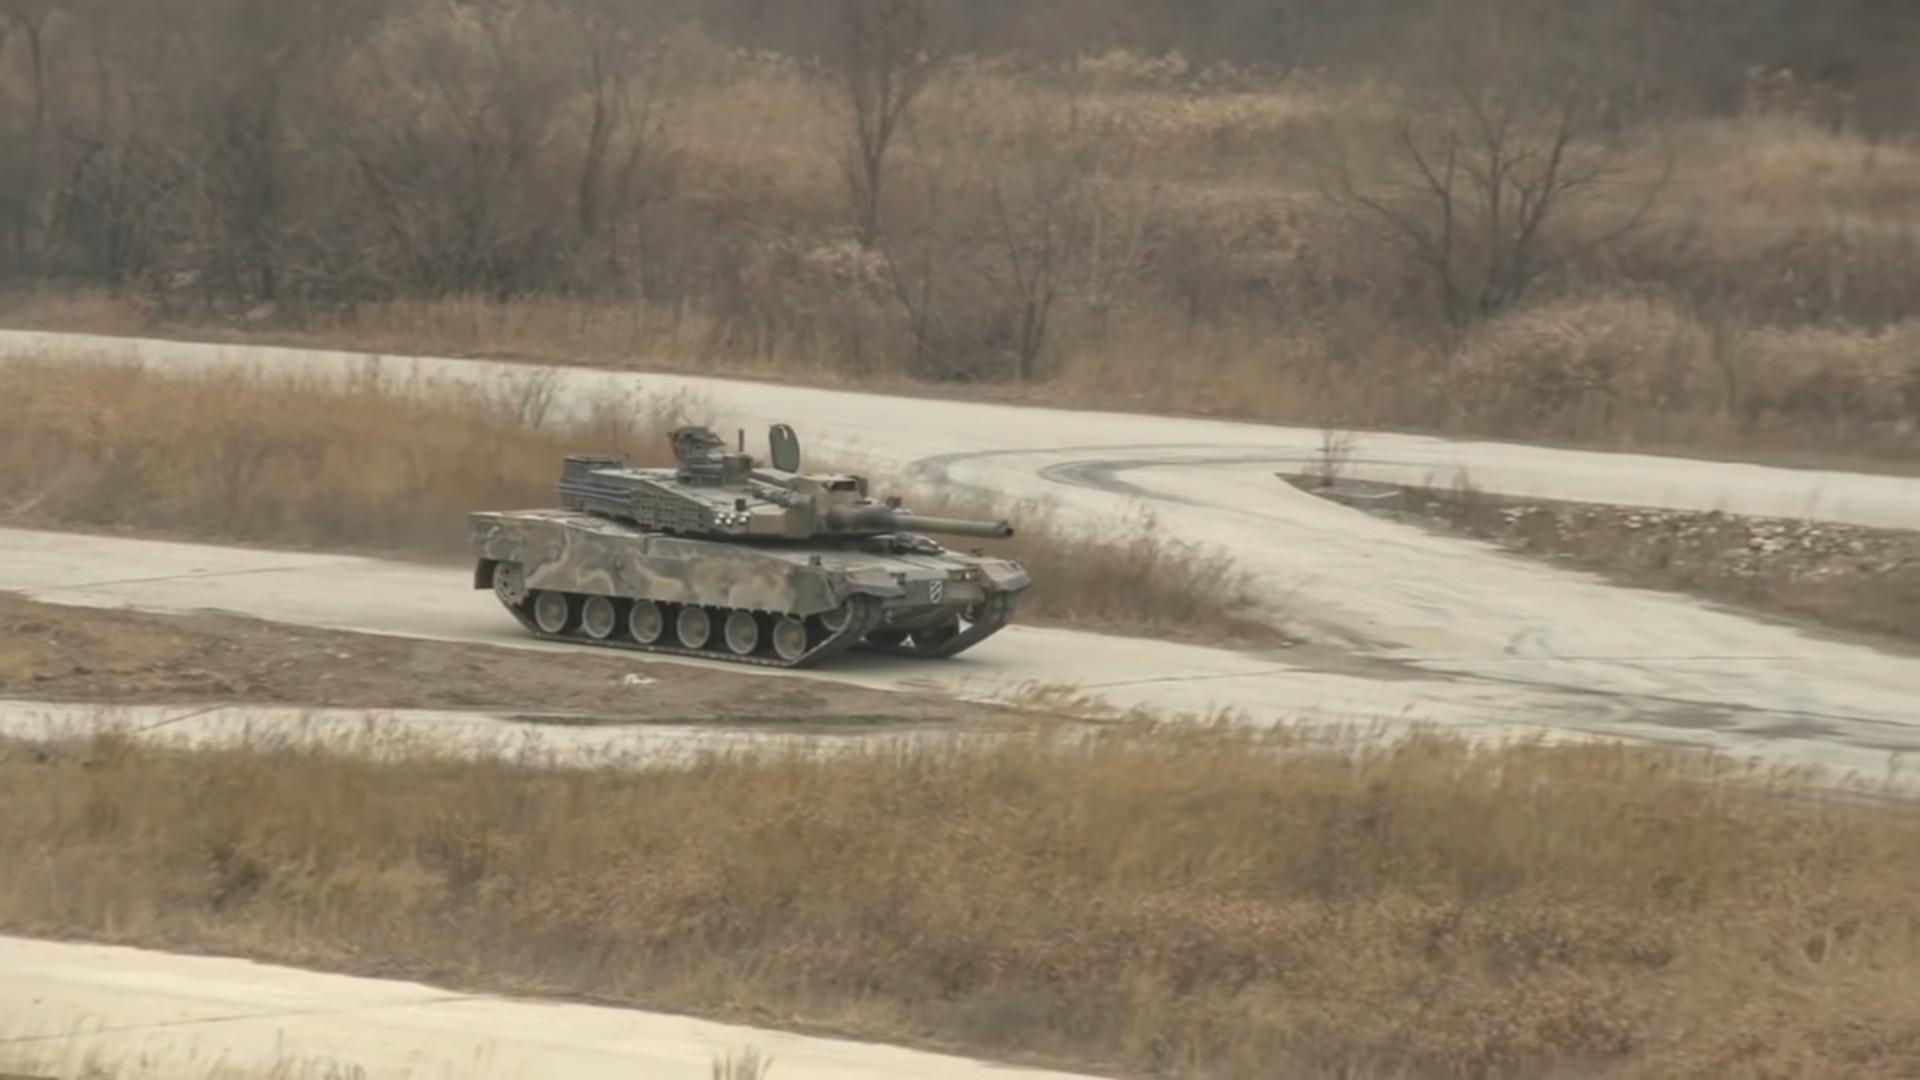tank: (467, 423, 1034, 670)
